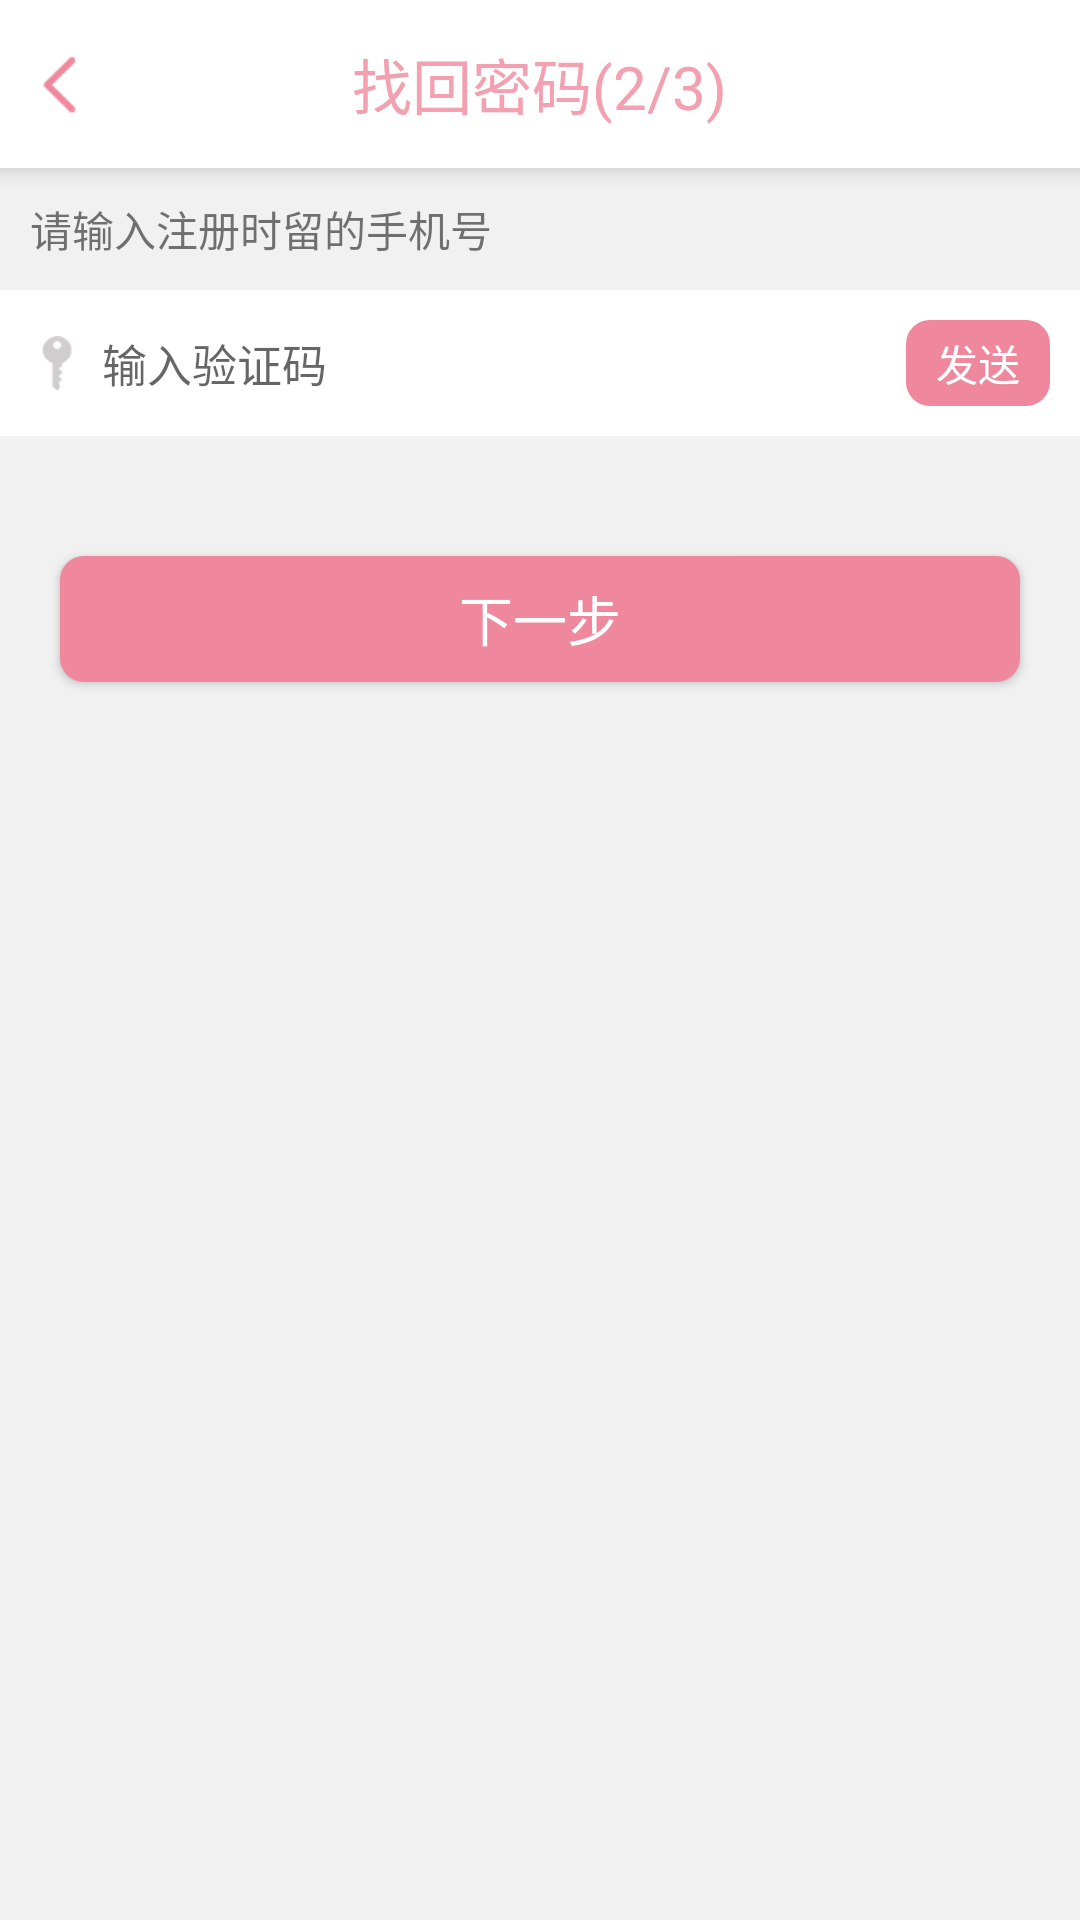

Screen size 1080 × 1920. Icon name, then its center in pixels as (x=x, y=y):
yaoshi: (x=57, y=363)
